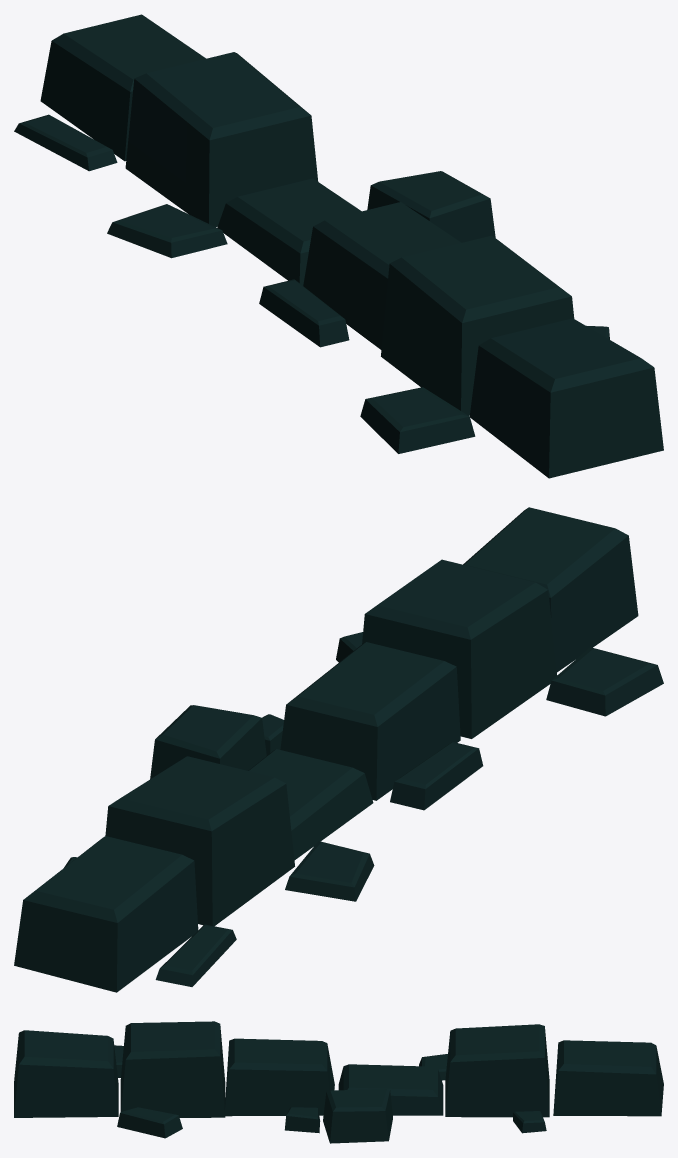
File: fencesection018_stone_0_lev1.glb
3 views of the same model, one above another, from view 1: azimuth 30°, elevation 25°; view 2: azimuth 150°, elevation 25°; view 3: azimuth 270°, elevation 25° (orthographic). The views are drawn at different scales.
Parts seen in each view (by area): view 1: fencesection018_stone_0_lev1; view 2: fencesection018_stone_0_lev1; view 3: fencesection018_stone_0_lev1.
Boxes of the visible parts, left/top/right/bottom form: fencesection018_stone_0_lev1: left=14, top=14, right=663, bottom=478; fencesection018_stone_0_lev1: left=14, top=507, right=663, bottom=992; fencesection018_stone_0_lev1: left=14, top=1021, right=663, bottom=1143.
Size of the model in its own units: 0.7561 by 0.2582 by 2.36.
